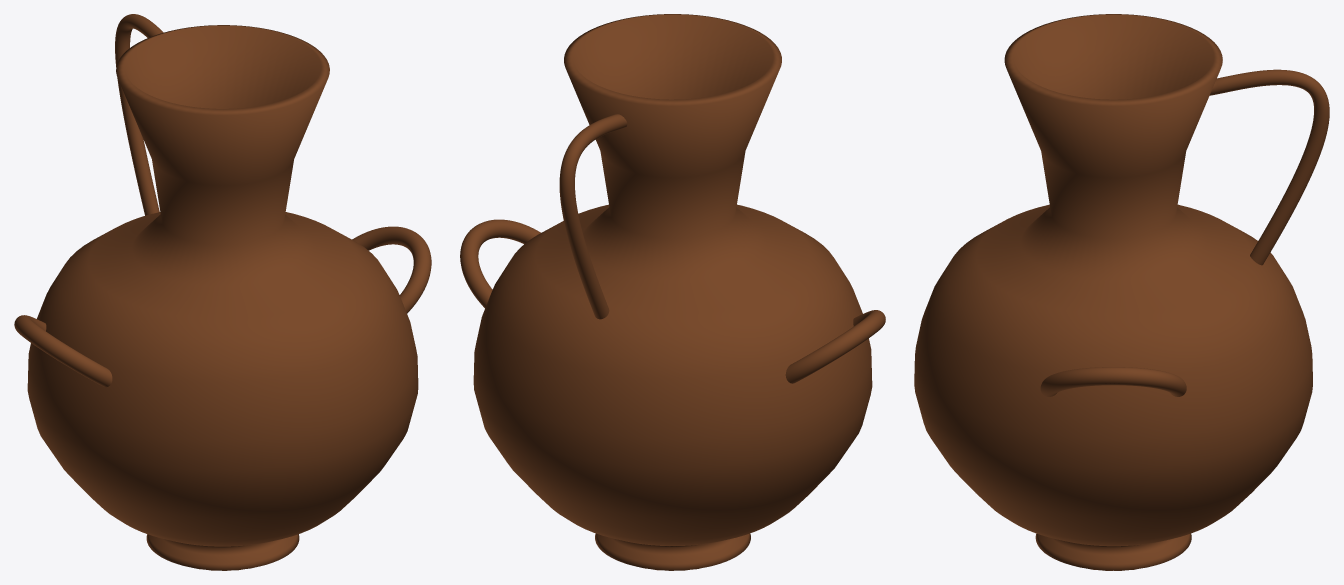
Rendered from BigVase3Handle.fbx.
The picture shows the model from 3 angles, left to right: view 1: azimuth 30°, elevation 25°; view 2: azimuth 150°, elevation 25°; view 3: azimuth 270°, elevation 25°; orthographic projection. The views are drawn at different scales.
Parts seen in each view (by area): view 1: Sphere, Torus, BezierCurve; view 2: Sphere, Torus, BezierCurve; view 3: Sphere, BezierCurve, Torus.
Boxes of the visible parts, <box> form: Sphere: <box>27,25,418,570</box>; Torus: <box>14,226,431,387</box>; BezierCurve: <box>115,14,163,215</box>; Sphere: <box>473,14,872,570</box>; Torus: <box>460,219,885,383</box>; BezierCurve: <box>559,114,627,319</box>; Sphere: <box>914,14,1312,570</box>; BezierCurve: <box>1209,69,1329,265</box>; Torus: <box>1040,367,1186,396</box>.
Size of the model in its own units: 386 by 445 by 345.
